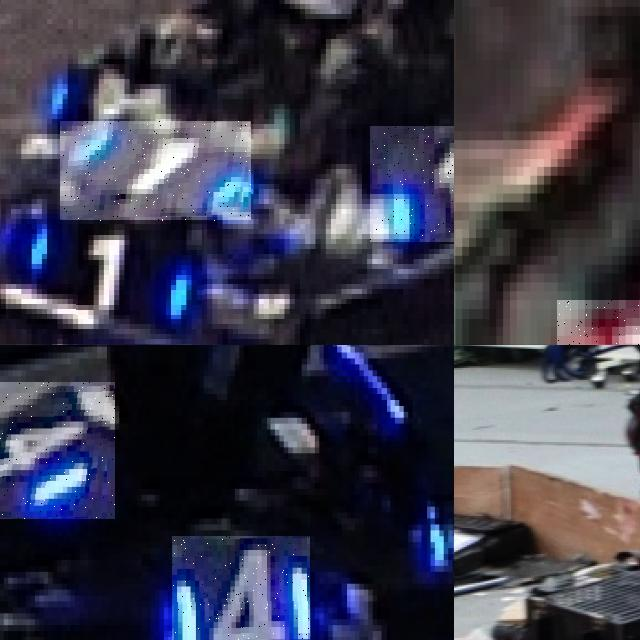B1: (60, 121, 251, 222), (8, 224, 205, 319), (369, 126, 454, 241)
B4: (0, 382, 114, 518), (172, 536, 310, 640)
